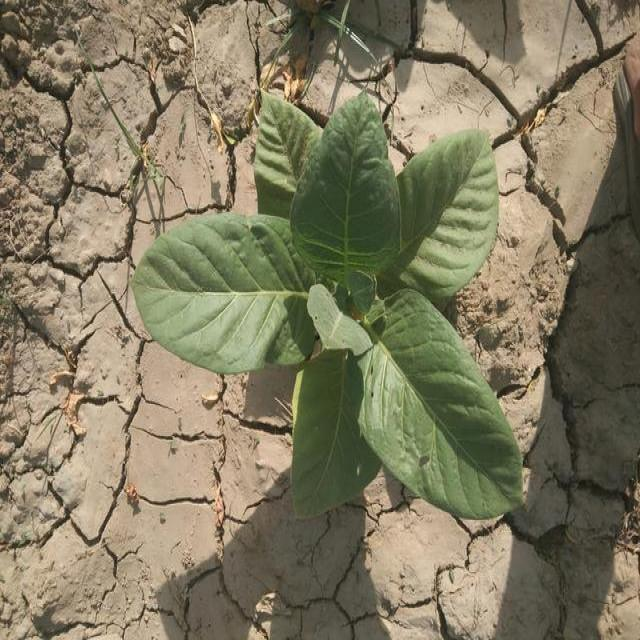crop: (132, 83, 528, 527)
